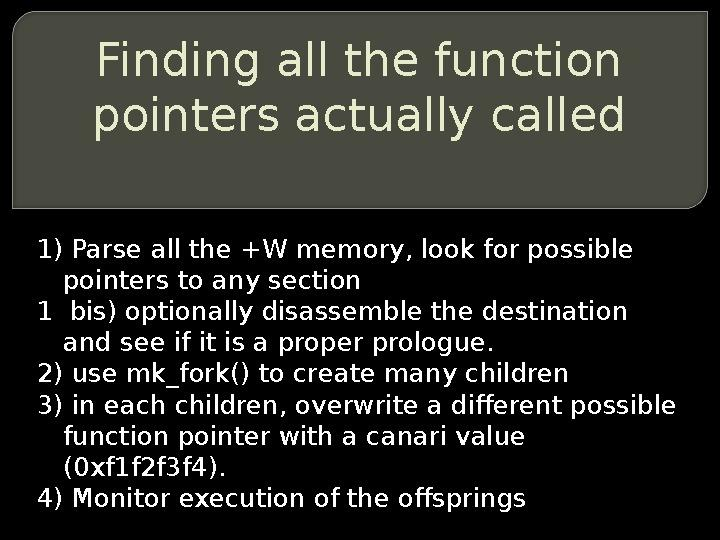paragraph: (29, 228, 696, 534)
title: (80, 26, 634, 146)
